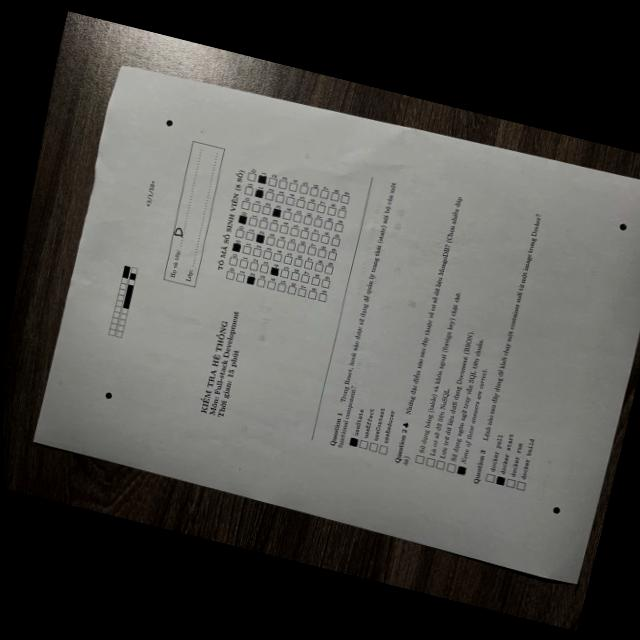Markers: (618, 222, 626, 230), (552, 505, 560, 513), (105, 391, 112, 398), (166, 119, 173, 126)
